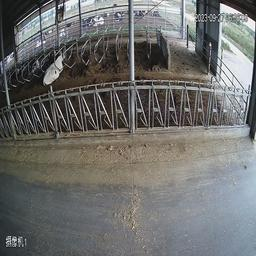cow: (37, 46, 70, 87)
